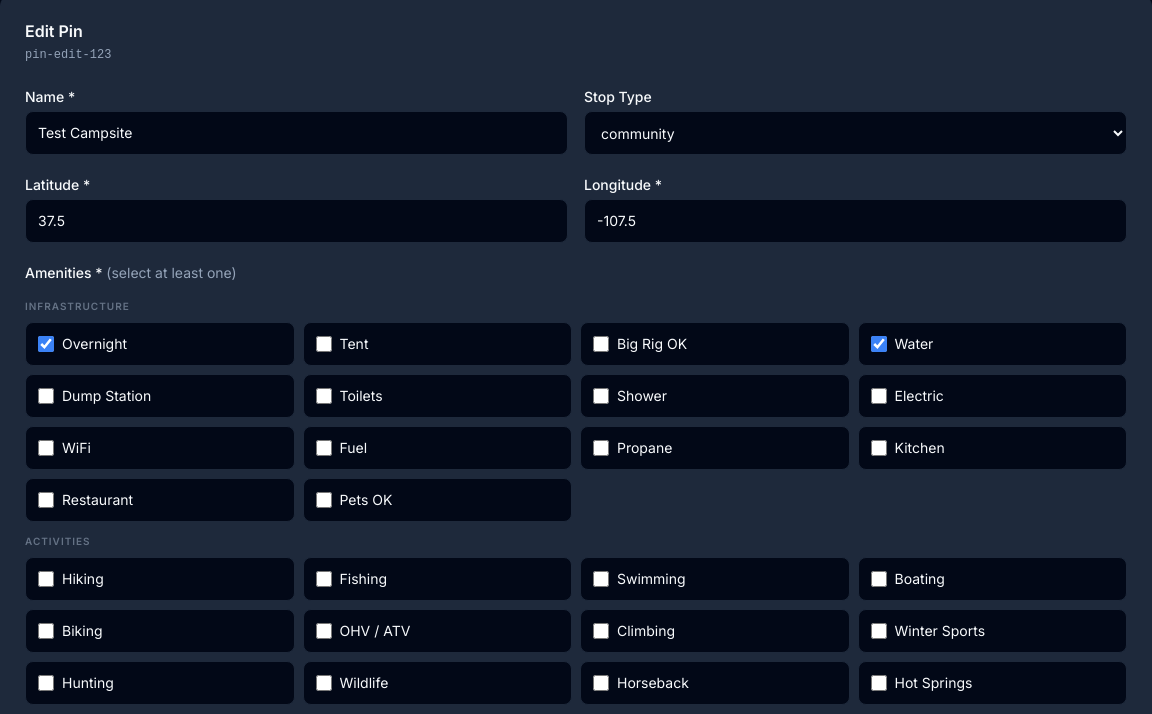
Test: EditPinForm › shows coordinates error for out-of-bounds lat/lng on submit (6.6)
Replace the text in the number field labelled "Latitude *" with "0" at x=296, y=221, box [25, 199, 568, 243]
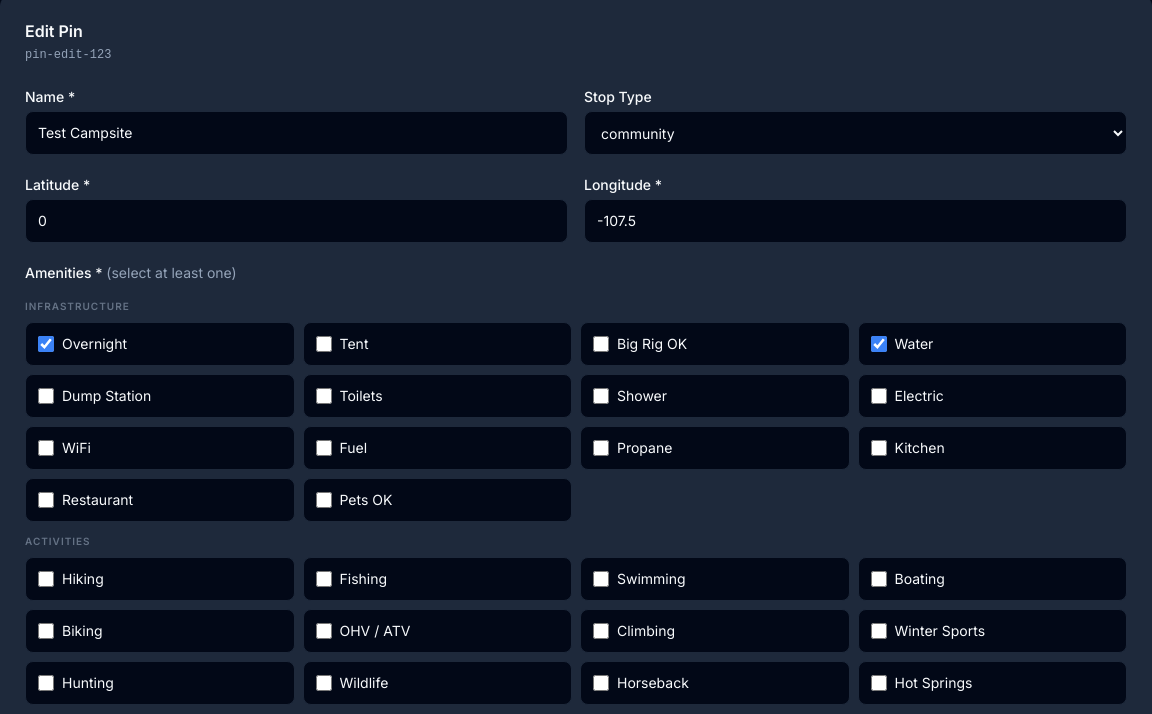
Replace the text in the number field labelled "Longitude *" with "0" at x=856, y=221, box [584, 199, 1127, 243]
(page scrolled)
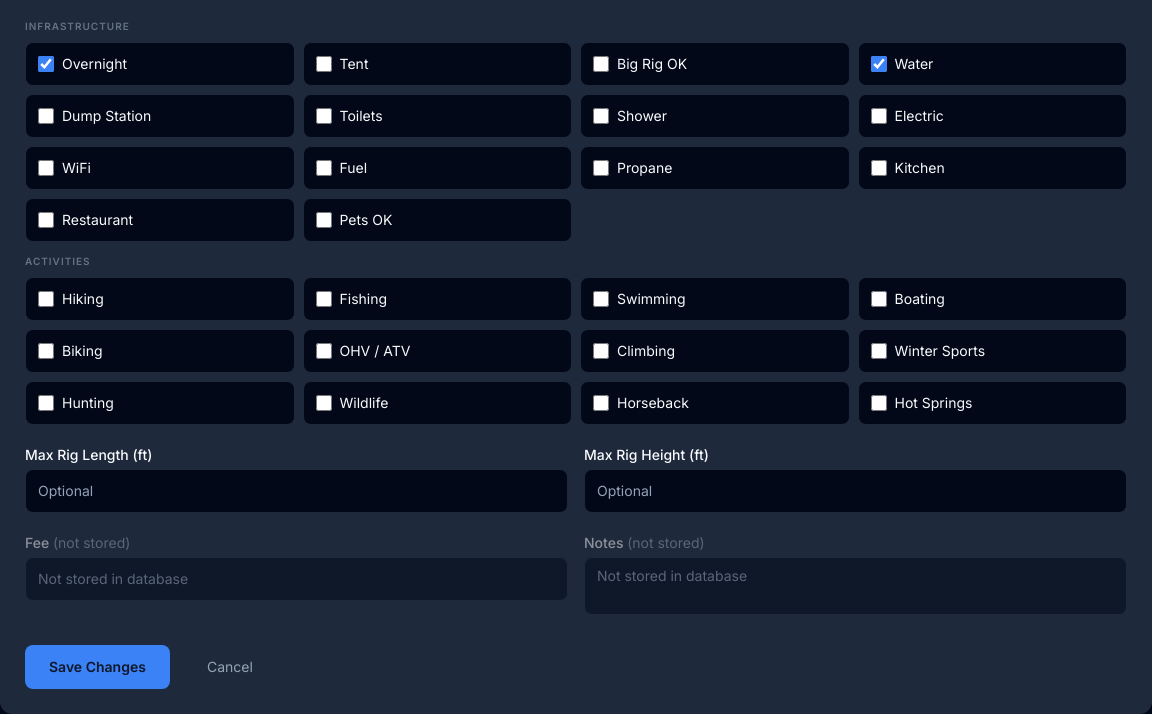
Click the button "Save Changes" at x=97, y=667, box [25, 645, 170, 689]
(page scrolled)
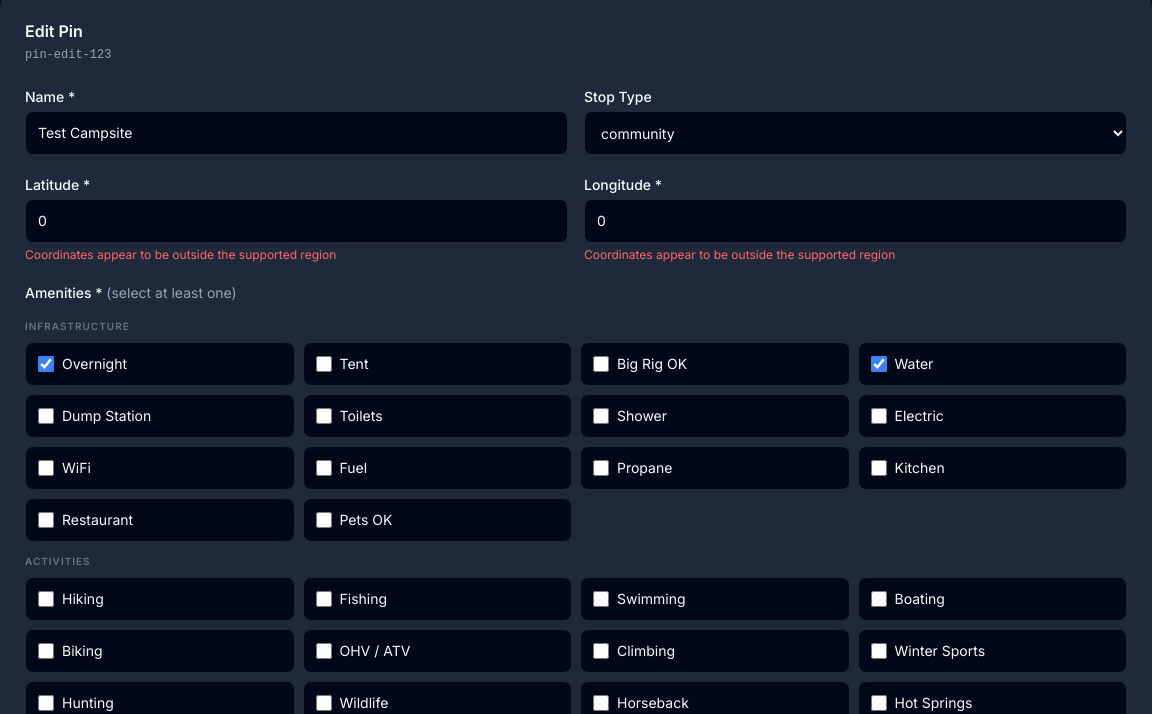
Expected: the text "Coordinates appear to be outside the supported region" below "Latitude *" is shown, [25, 247, 336, 262]
